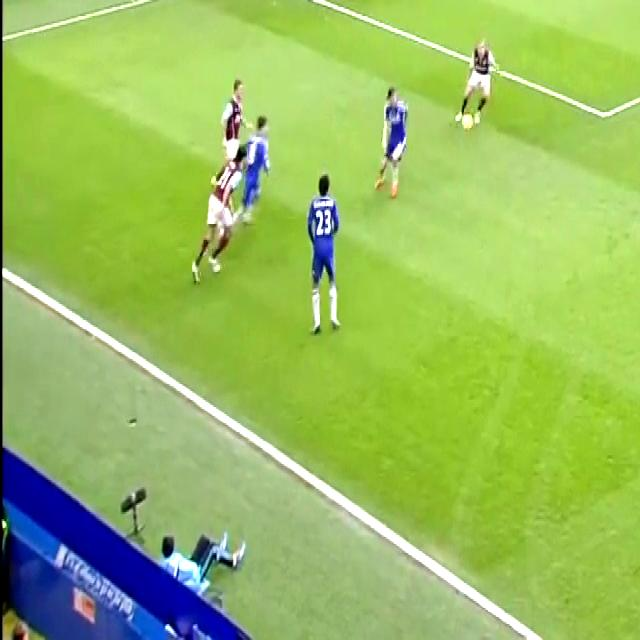ball: (458, 102, 476, 138)
soccer-player: (298, 165, 349, 354), (183, 157, 235, 290), (369, 68, 416, 207), (449, 26, 500, 140), (238, 104, 275, 235), (215, 66, 251, 198)
